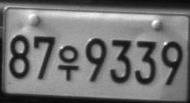3: (109, 39, 133, 83), (134, 40, 156, 85)
7: (32, 35, 56, 79)
8: (8, 33, 30, 79)
9: (84, 36, 107, 82), (160, 40, 183, 85)
우: (57, 44, 79, 82)
